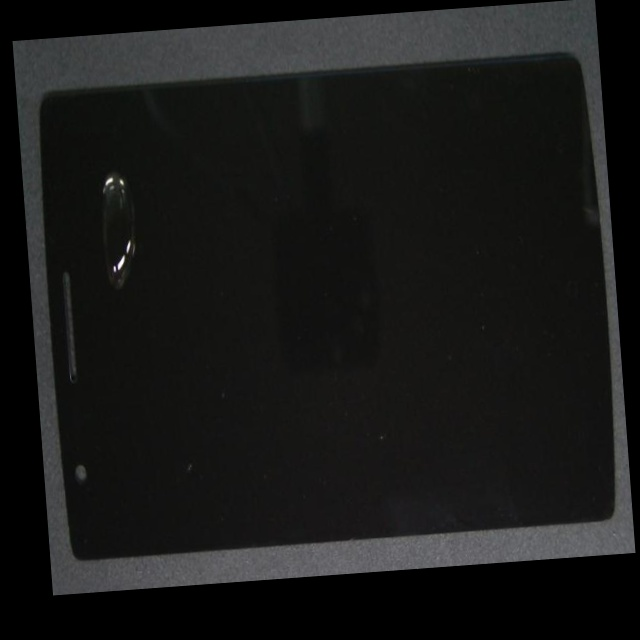oil: (91, 132, 185, 272)
